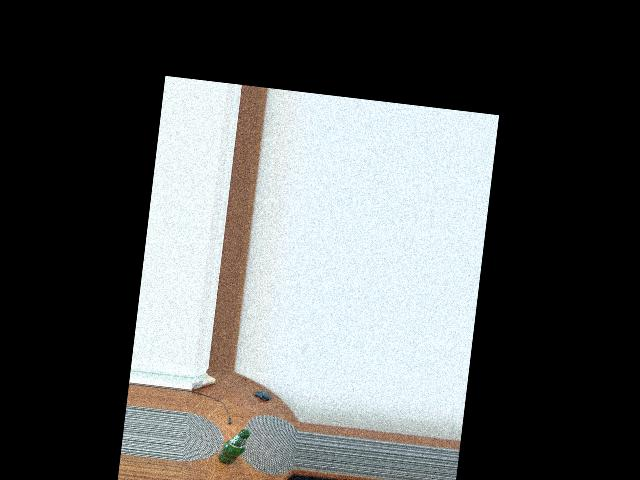beer: (215, 426, 250, 467)
